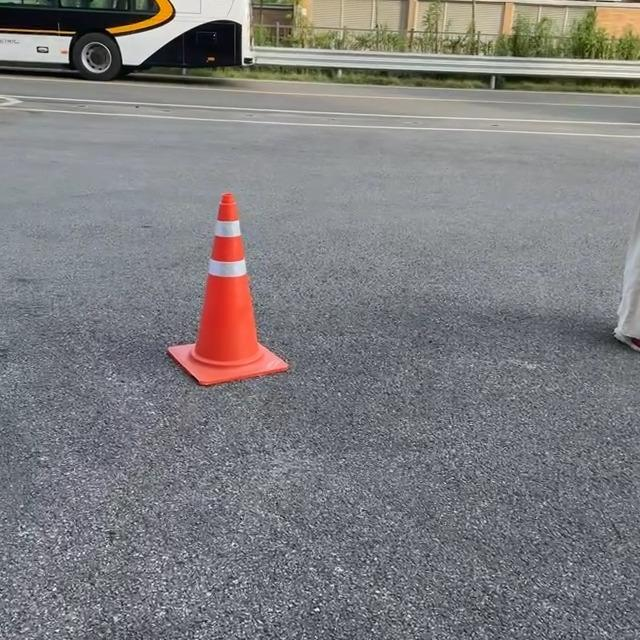fallen_object: (169, 192, 292, 417)
